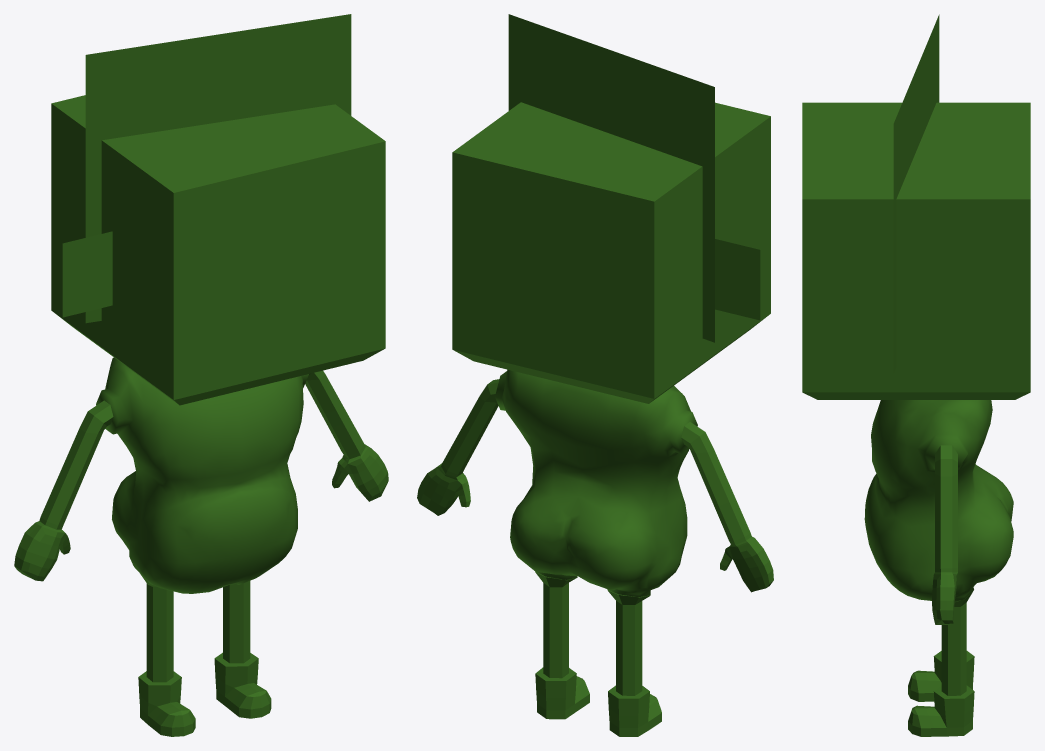
File: Complete_Generic.fbx
The picture shows the model from 3 angles, left to right: view 1: azimuth 30°, elevation 25°; view 2: azimuth 150°, elevation 25°; view 3: azimuth 270°, elevation 25°; orthographic projection. The views are drawn at different scales.
Visible parts, largest first — view 1: CharacterHead_EditG, BoxBody_VEdG, Hair_Gen, ArmLG, LegL002, LegR001, ArmRG, EarPieceAG; view 2: CharacterHead_EditG, BoxBody_VEdG, Hair_Gen, LegL002, ArmLG, LegR001, ArmRG, EarPieceBG; view 3: CharacterHead_EditG, BoxBody_VEdG, LegR001, Hair_Gen, ArmRG, LegL002.
Part boxes in pixels (bbox=[...]): CharacterHead_EditG: bbox=[51, 95, 385, 405]; BoxBody_VEdG: bbox=[96, 357, 308, 593]; Hair_Gen: bbox=[85, 14, 351, 323]; ArmLG: bbox=[14, 400, 113, 581]; LegL002: bbox=[138, 573, 195, 736]; LegR001: bbox=[214, 581, 271, 718]; ArmRG: bbox=[305, 370, 388, 501]; EarPieceAG: bbox=[62, 231, 112, 317]; CharacterHead_EditG: bbox=[452, 102, 770, 403]; BoxBody_VEdG: bbox=[495, 369, 697, 596]; Hair_Gen: bbox=[508, 14, 714, 342]; LegL002: bbox=[607, 590, 661, 736]; ArmLG: bbox=[681, 422, 773, 592]; LegR001: bbox=[535, 572, 589, 719]; ArmRG: bbox=[417, 379, 499, 515]; EarPieceBG: bbox=[715, 239, 759, 320]; CharacterHead_EditG: bbox=[802, 102, 1030, 399]; BoxBody_VEdG: bbox=[864, 400, 1013, 601]; LegR001: bbox=[908, 590, 974, 736]; Hair_Gen: bbox=[893, 14, 939, 373]; ArmRG: bbox=[932, 445, 957, 624]; LegL002: bbox=[908, 651, 974, 701].
Size of the model in its own units: 52.35 by 93.14 by 30.
